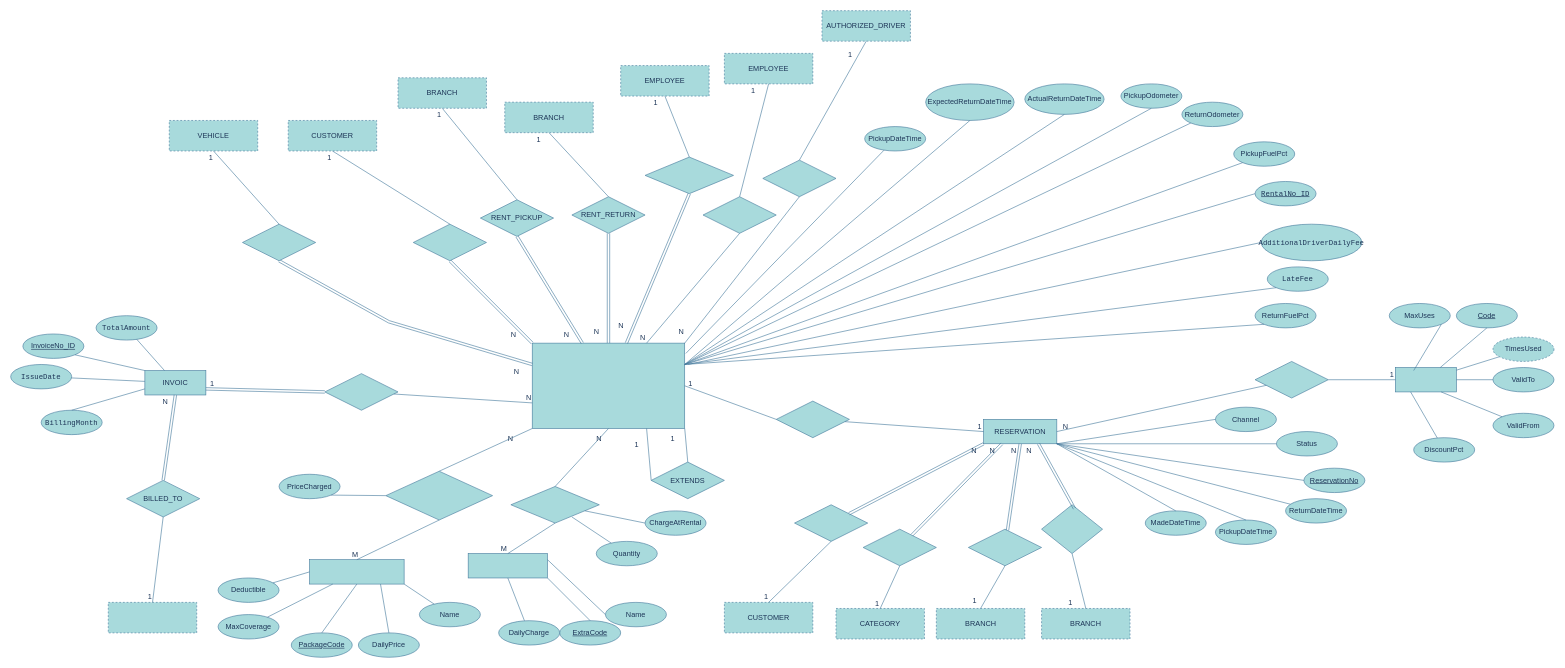
Some shapes in this 1565 by 668 pixel diagram are drawn without their labels. Here are the shapes that lost their labels. From the top down, the centre of each, then its label:
At (x=689, y=175): "HANDED_OVER_BY".
At (x=799, y=178): "MAIN_DRIVER".
At (x=739, y=214): "RECEIVED_BY".
At (x=279, y=242): "OF_VEHICLE".
At (x=449, y=242): "RENTS".
At (x=361, y=391): "INVOICES".
At (x=608, y=386): "RENTAL".
At (x=1291, y=379): "USES_PROMO".
At (x=1425, y=379): "PROMO_CODE".
At (x=812, y=419): "BECOMES".
At (x=439, y=495): "INCLUDES_INSURANCE".
At (x=554, y=504): "INCLUDES_EXTRA".
At (x=831, y=522): "MAKES".
At (x=1072, y=529): "RES_RETURN".
At (x=507, y=565): "EXTRA".
At (x=899, y=547): "FOR_CATEGORY".
At (x=1005, y=547): "RES_PICKUP".
At (x=356, y=571): "INSURANCE_PACKAGE".
At (x=152, y=617): "CORPORATE".
